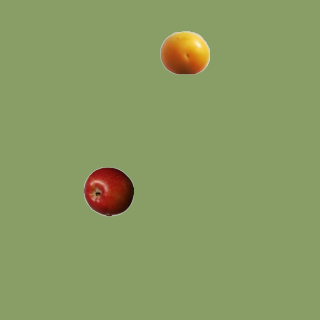Apple Braeburn: (83, 166, 133, 216)
Cherry Wax Yellow: (159, 27, 209, 77)
